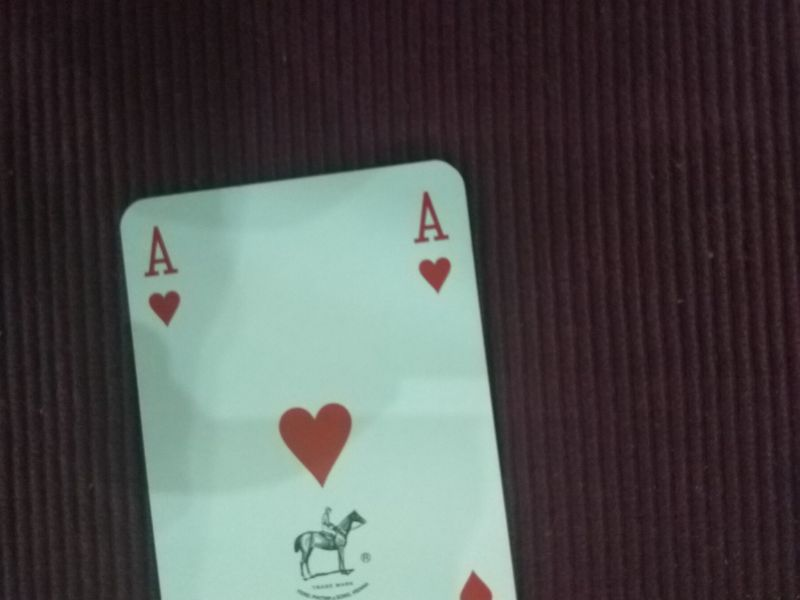Ah: (139, 222, 189, 334), (410, 189, 457, 298)
